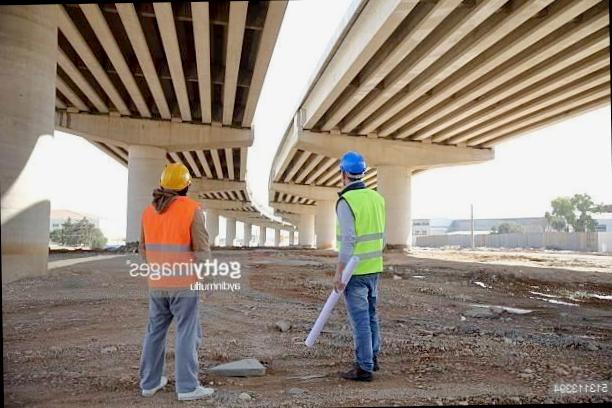helmet: (154, 157, 198, 193), (332, 144, 372, 180)
person: (134, 158, 214, 405), (322, 143, 389, 388)
